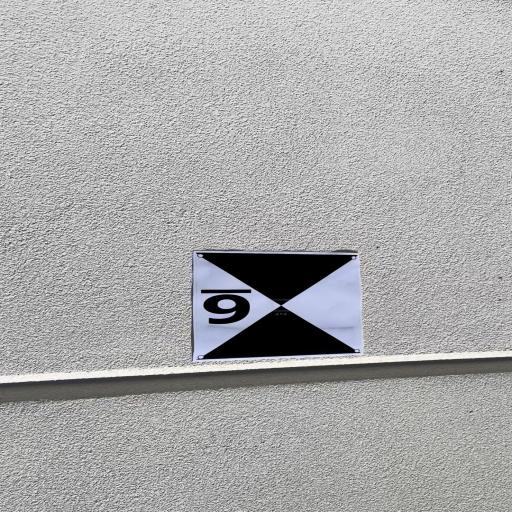target6: (190, 251, 364, 363)
